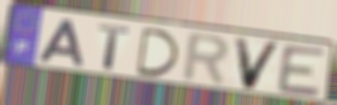A: (36, 18, 87, 69)
D: (135, 26, 182, 79)
E: (275, 43, 328, 100)
R: (179, 31, 233, 89)
T: (96, 23, 133, 73)
V: (232, 36, 285, 92)
